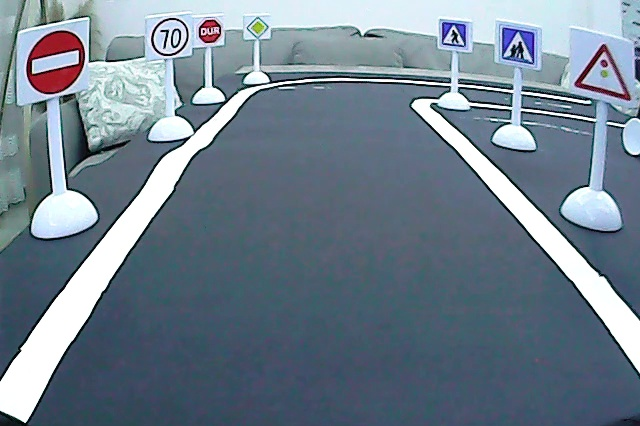do not enter: (23, 27, 89, 99)
pedestrian crossing: (439, 19, 470, 50)
red light: (572, 36, 634, 105)
school crossing: (498, 23, 537, 67)
speed limit 70: (149, 16, 191, 59)
stop sign: (196, 17, 224, 45)
